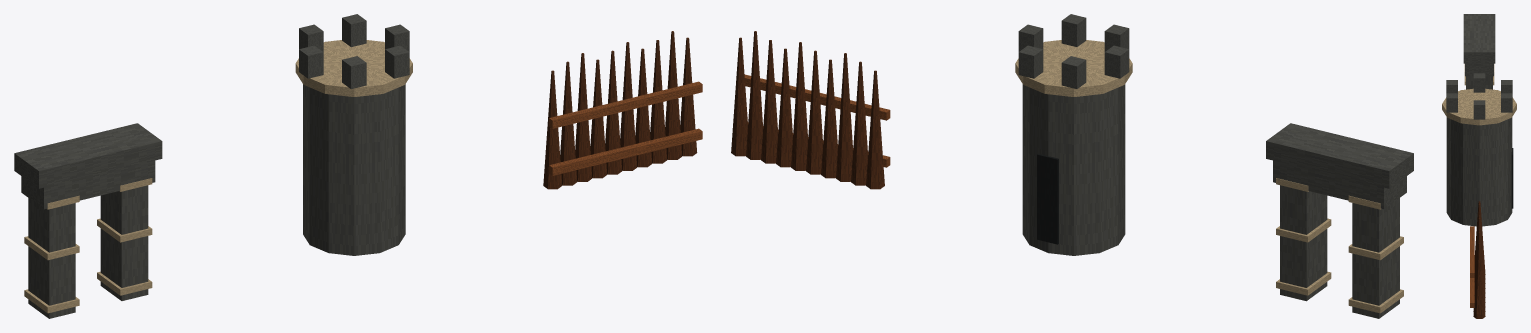
The model's file is KIT_herrera_archive_fort.gltf.
3 renders of one model, left to right at view 1: azimuth 30°, elevation 25°; view 2: azimuth 150°, elevation 25°; view 3: azimuth 270°, elevation 25°, orthographic. The views are drawn at different scales.
Visible parts, largest first — view 1: 02_tower, 01_arch, 03_palisade; view 2: 02_tower, 01_arch, 03_palisade; view 3: 02_tower, 01_arch, 03_palisade.
Boxes of the visible parts, x1,y1,x2,y2 form: 02_tower: (295,14,412,255); 01_arch: (14,123,162,318); 03_palisade: (543,31,702,189); 02_tower: (1015,14,1132,255); 01_arch: (1266,123,1413,318); 03_palisade: (731,31,890,189); 02_tower: (1442,73,1516,226); 01_arch: (1463,14,1495,89); 03_palisade: (1470,201,1485,318).
Bounding box in the file's own units: 13.82 × 3.84 × 2.1.
Materials: 5 (5 with a texture image).
